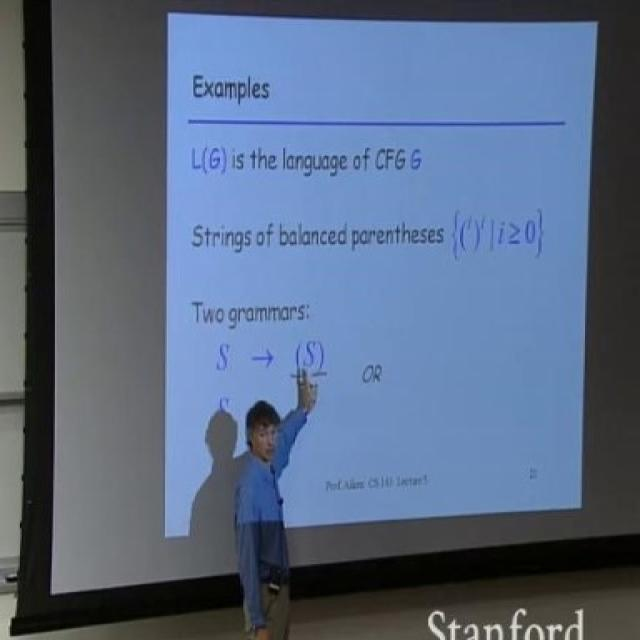Instructor: (200, 402, 313, 628)
Slide: (158, 12, 602, 538)
